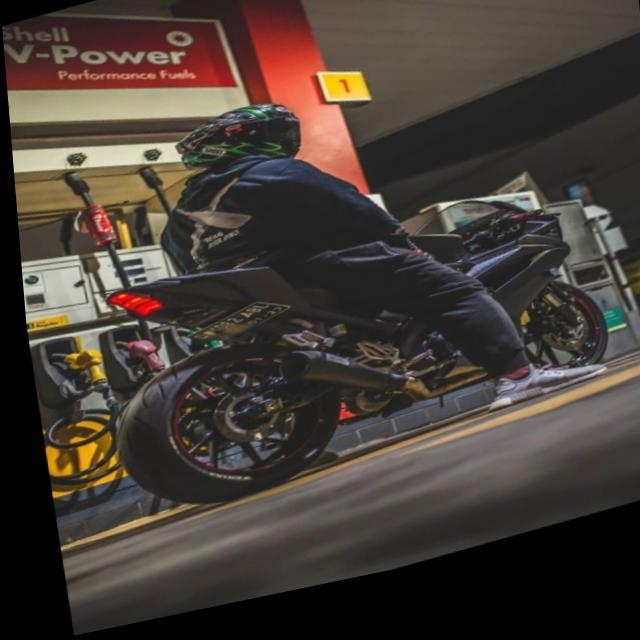Helmet: (159, 90, 307, 180)
